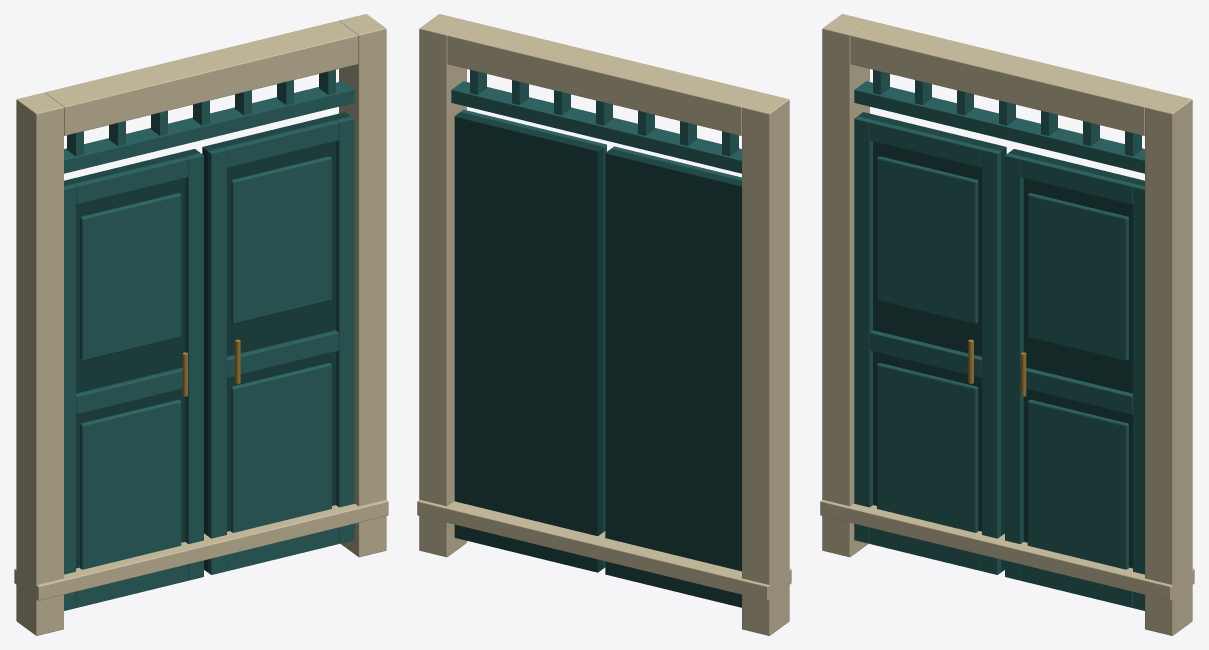
File: source-edit.glb
The picture shows the model from 3 angles, left to right: view 1: azimuth 30°, elevation 25°; view 2: azimuth 150°, elevation 25°; view 3: azimuth 330°, elevation 25°; orthographic projection.
Visible parts, largest first — view 1: DOOR_Jamb, DOOR_Jamb.001, Right_RaisedPanel, Left_RaisedPanel, Right_RaisedPanel.001, Left_RaisedPanel.001, DOOR_Header, Right_Core, Left_Core, Right_Stile.001, Right_Stile, Left_Stile.001 (+9 smaller); view 2: Right_Core, Left_Core, DOOR_Jamb, DOOR_Jamb.001, DOOR_Header, DOOR_Sill, TRANSOM_Rail, Right_Stile.001; view 3: DOOR_Jamb.001, DOOR_Jamb, Left_RaisedPanel, Right_RaisedPanel, Left_RaisedPanel.001, Right_RaisedPanel.001, DOOR_Header, Left_Core, Right_Core, Left_Stile.001, DOOR_Sill, Left_Stile (+9 smaller).
Boxes of the visible parts, <box> form: DOOR_Jamb: <box>16,92,63,635</box>; DOOR_Jamb.001: <box>339,14,386,557</box>; Right_RaisedPanel: <box>230,363,331,532</box>; Left_RaisedPanel: <box>80,399,181,569</box>; Right_RaisedPanel.001: <box>230,156,331,324</box>; Left_RaisedPanel.001: <box>80,193,181,360</box>; DOOR_Header: <box>44,21,358,135</box>; Right_Core: <box>202,112,350,572</box>; Left_Core: <box>64,149,199,568</box>; Right_Stile.001: <box>208,147,226,574</box>; Right_Stile: <box>336,116,354,543</box>; Left_Stile.001: <box>185,153,203,580</box>; Right_Core: <box>454,112,603,572</box>; Left_Core: <box>605,149,741,607</box>; DOOR_Jamb: <box>742,92,789,635</box>; DOOR_Jamb.001: <box>419,14,466,557</box>; DOOR_Header: <box>447,21,761,135</box>; DOOR_Sill: <box>417,499,791,600</box>; TRANSOM_Rail: <box>451,81,741,173</box>; Right_Stile.001: <box>588,141,606,567</box>; DOOR_Jamb.001: <box>1145,92,1192,635</box>; DOOR_Jamb: <box>822,14,869,557</box>; Left_RaisedPanel: <box>877,363,978,532</box>; Right_RaisedPanel: <box>1027,399,1128,569</box>; Left_RaisedPanel.001: <box>877,156,978,324</box>; Right_RaisedPanel.001: <box>1027,193,1128,360</box>; DOOR_Header: <box>850,21,1164,135</box>; Left_Core: <box>858,112,1006,572</box>; Right_Core: <box>1009,149,1144,568</box>; Left_Stile.001: <box>982,147,1000,574</box>; DOOR_Sill: <box>820,499,1194,600</box>; Left_Stile: <box>854,116,872,543</box>.
Bounding box in the file's own units: 2 × 2.85 × 0.24.
